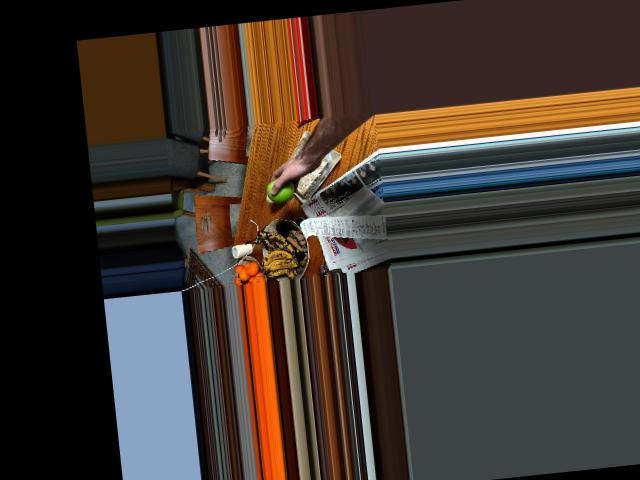apple: (264, 173, 298, 202)
